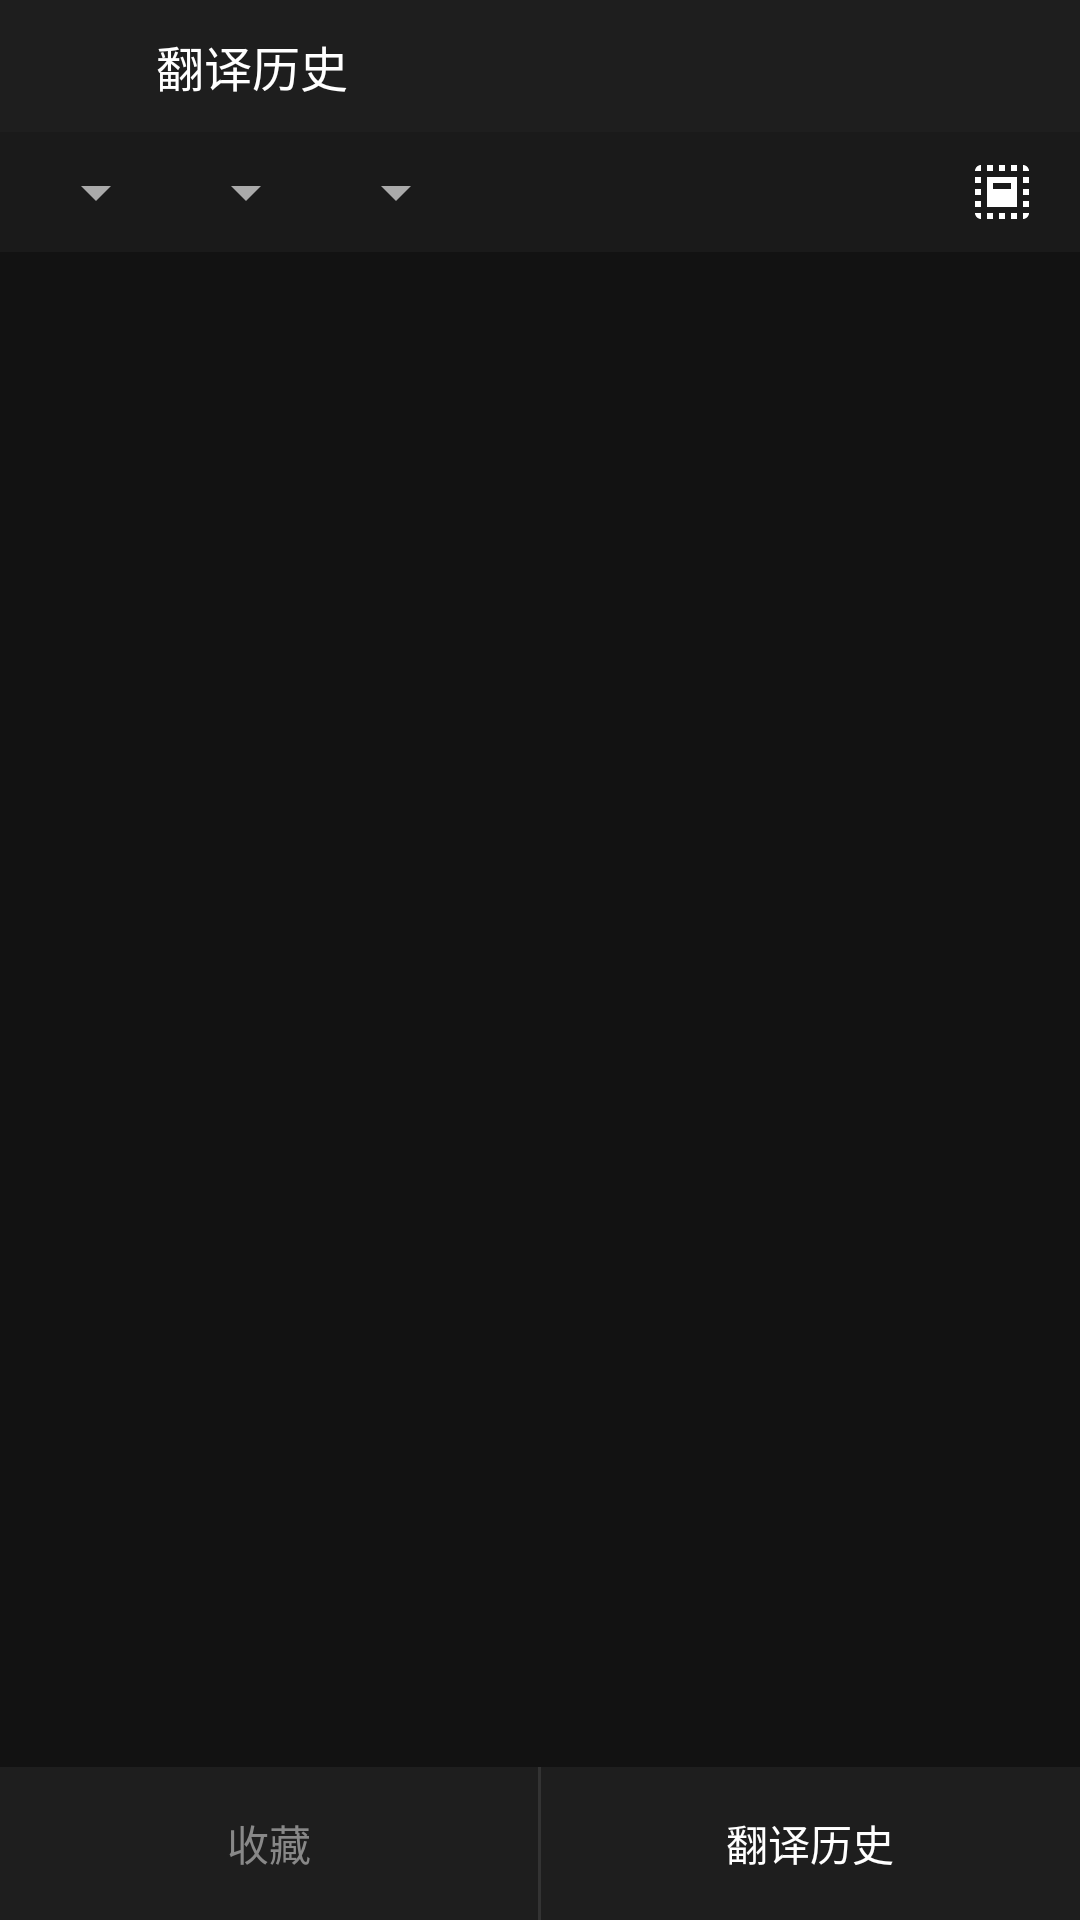

Named icons in this screenshot (1080 x 1920) and their bounding boxes, (left=x1, top=y1, right=x2, bottom=y2):
多选: (left=975, top=165, right=1029, bottom=219)
